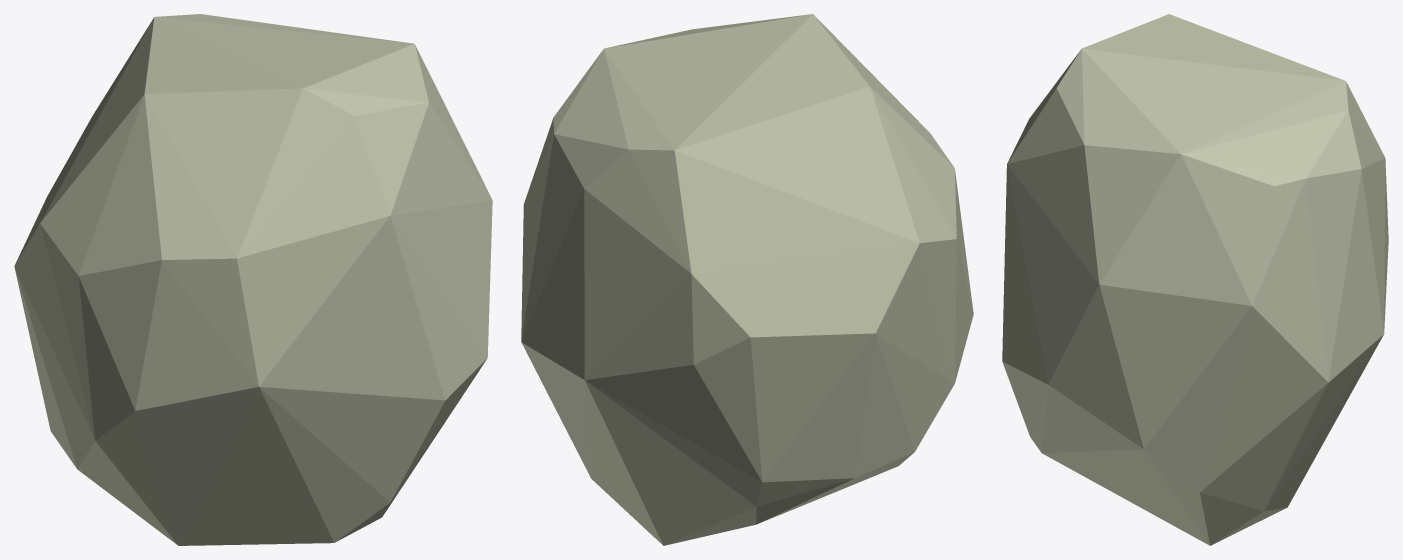
File: food_produce_lemon_a11.glb
3 renders of one model, left to right at view 1: azimuth 30°, elevation 25°; view 2: azimuth 150°, elevation 25°; view 3: azimuth 270°, elevation 25°, orthographic. The views are drawn at different scales.
Parts seen in each view (by area): view 1: geometry_0; view 2: geometry_0; view 3: geometry_0.
Boxes of the visible parts, x1=… form: geometry_0: x1=14, y1=14, x2=492, y2=545; geometry_0: x1=521, y1=14, x2=973, y2=545; geometry_0: x1=1002, y1=14, x2=1388, y2=545.
Size of the model in its own units: 0.3152 by 0.3821 by 0.2945.
